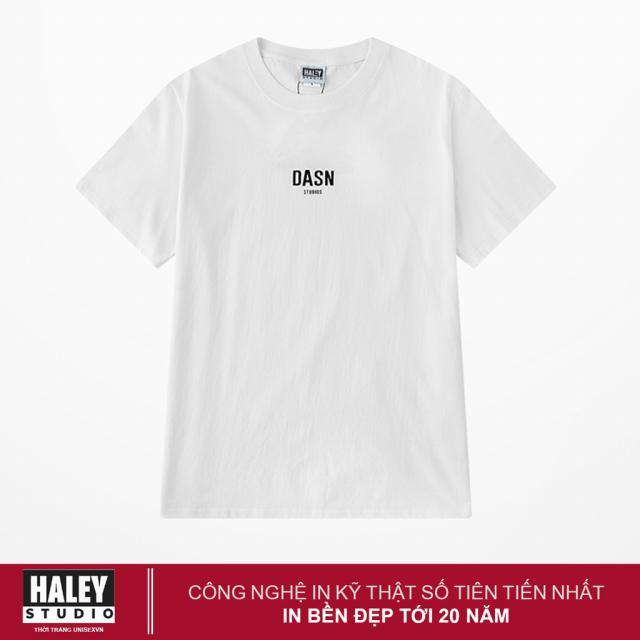Shirt: (77, 41, 562, 528)
